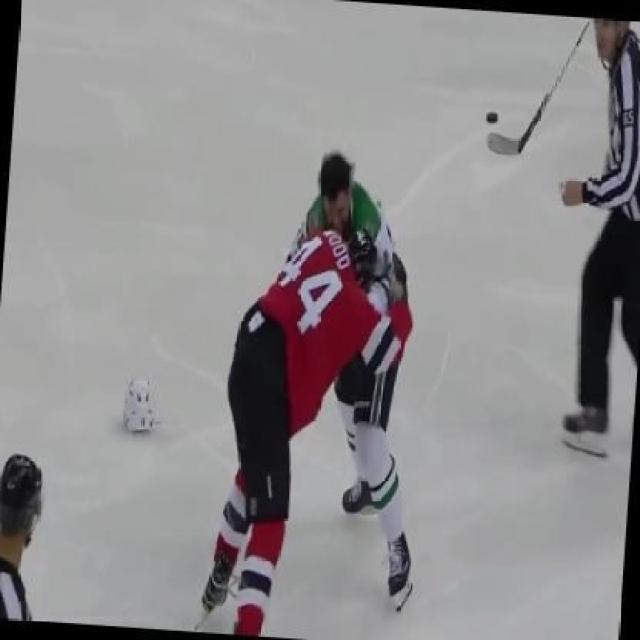fight: (194, 131, 421, 637)
non-fight: (540, 11, 638, 462)
